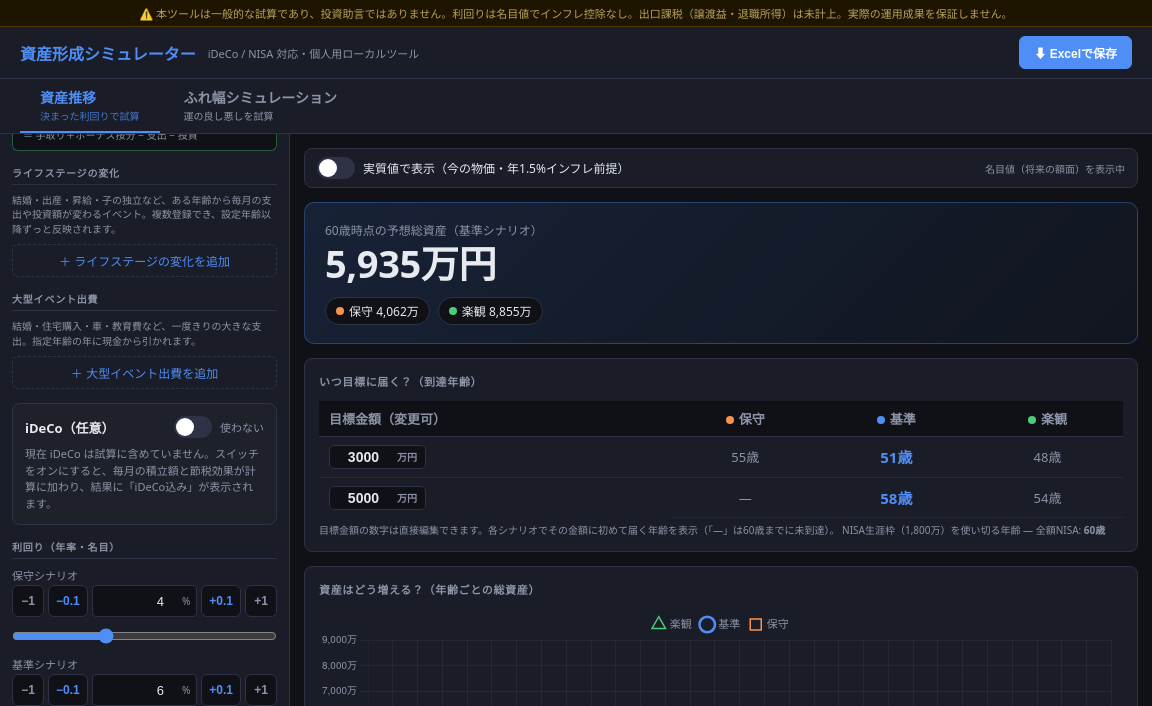
Scenario: App 結合テスト › iDeCoを有効にすると iDeCoパネルが現れる
The image size is (1152, 706).
(page scrolled)
Check: the text "iDeCoの効果" is not shown
Click the checkbox named "iDeCoを試算に含める". click: click(219, 427)
box: [174,416,264,438]
(page scrolled)
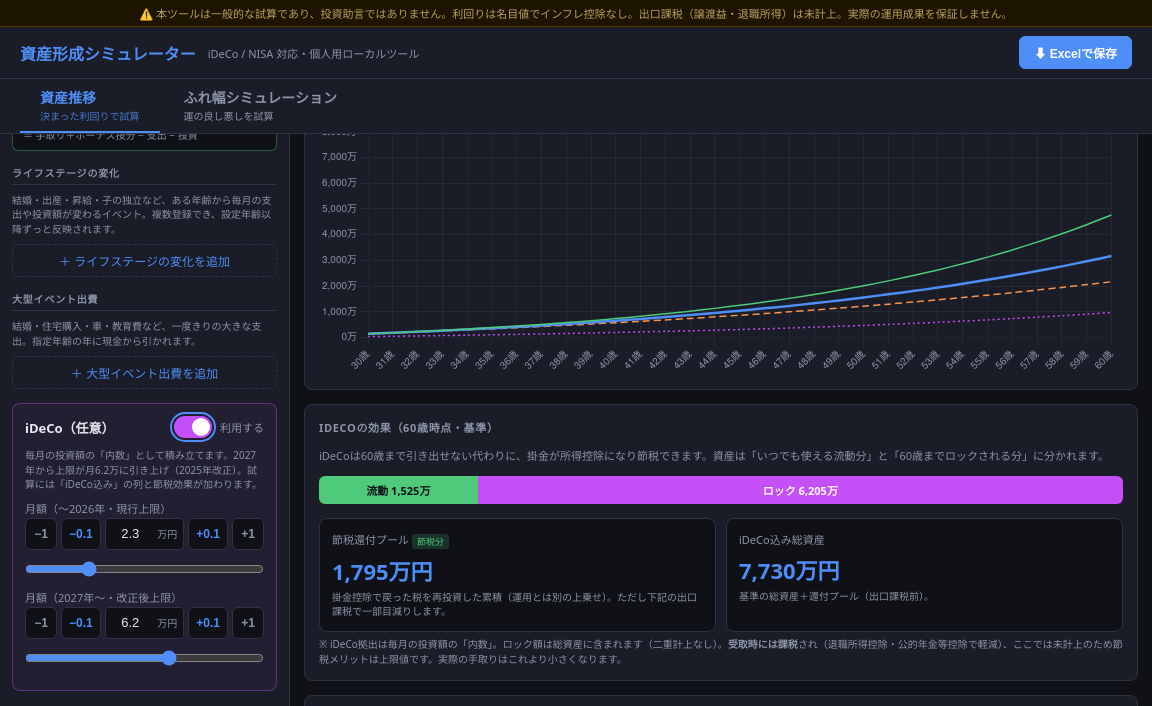
Check: the heading "iDeCoの効果（60歳時点・基準）" is shown, box [319,420,499,435]
